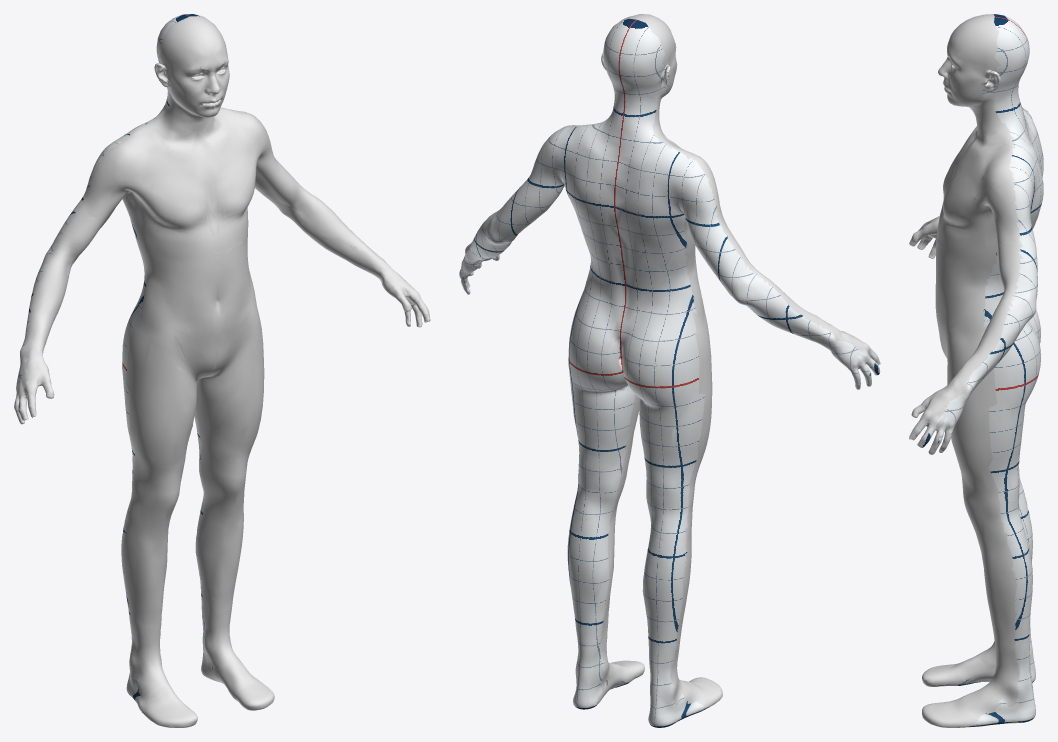
File: human4_posterior_matrix_front_uv_topleft.glb
3 renders of one model, left to right at view 1: azimuth 30°, elevation 25°; view 2: azimuth 150°, elevation 25°; view 3: azimuth 270°, elevation 25°, orthographic.
Parts seen in each view (by area): view 1: __3; view 2: __3; view 3: __3.
Boxes of the visible parts, x1,y1,x2,y2 form: __3: (14,14,430,727); __3: (459,14,880,727); __3: (909,14,1043,727).
Size of the model in its own units: 1.07 by 1.69 by 0.3005.
2 materials, 1 textured.
